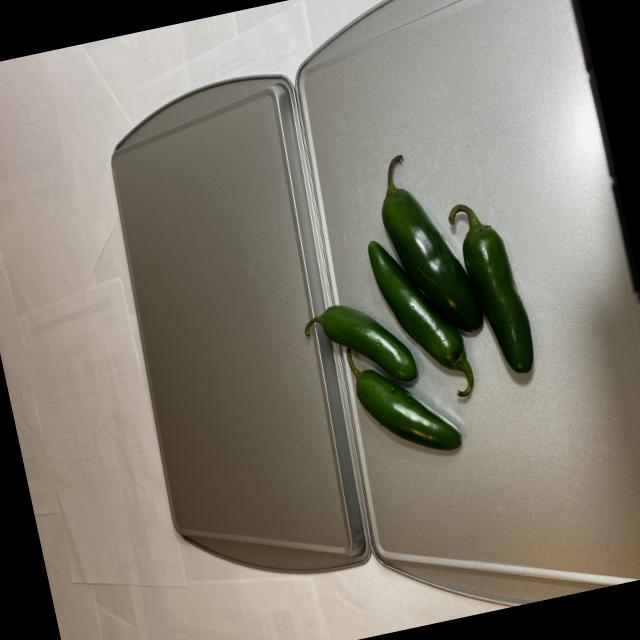chilli: (275, 143, 568, 472)
